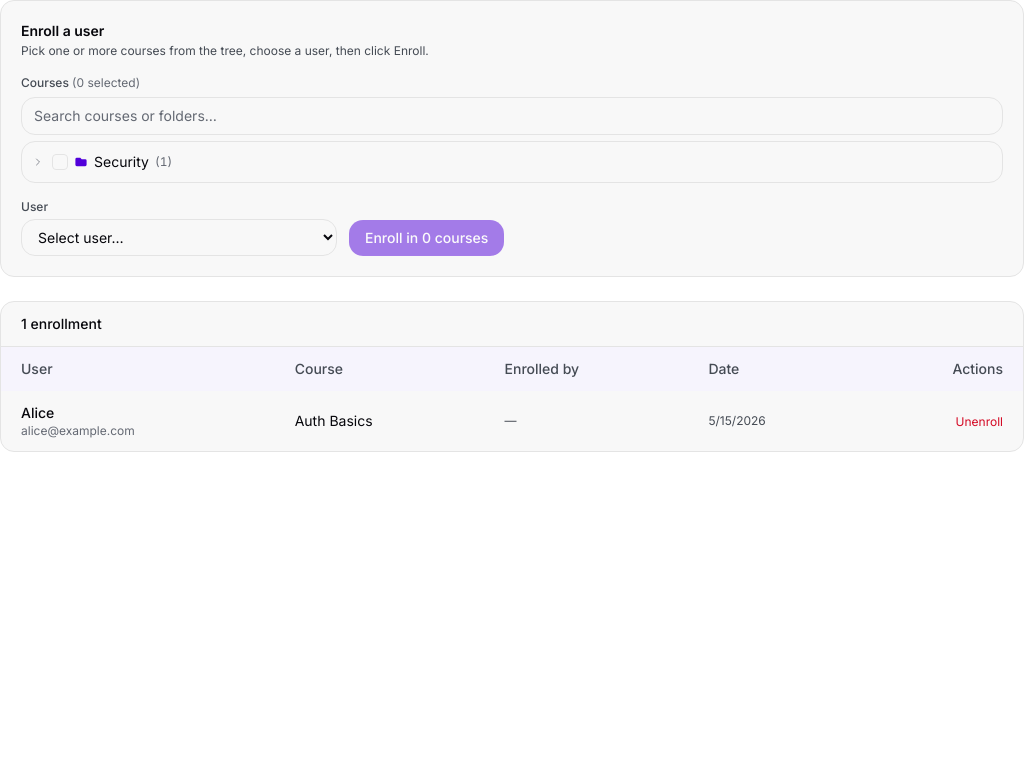
EnrollmentManager — enroll flow › opens the unenroll confirm dialog when Unenroll is clicked
Click the button with aria-label "Unenroll Alice" at (979, 422), box [956,414,1003,430]
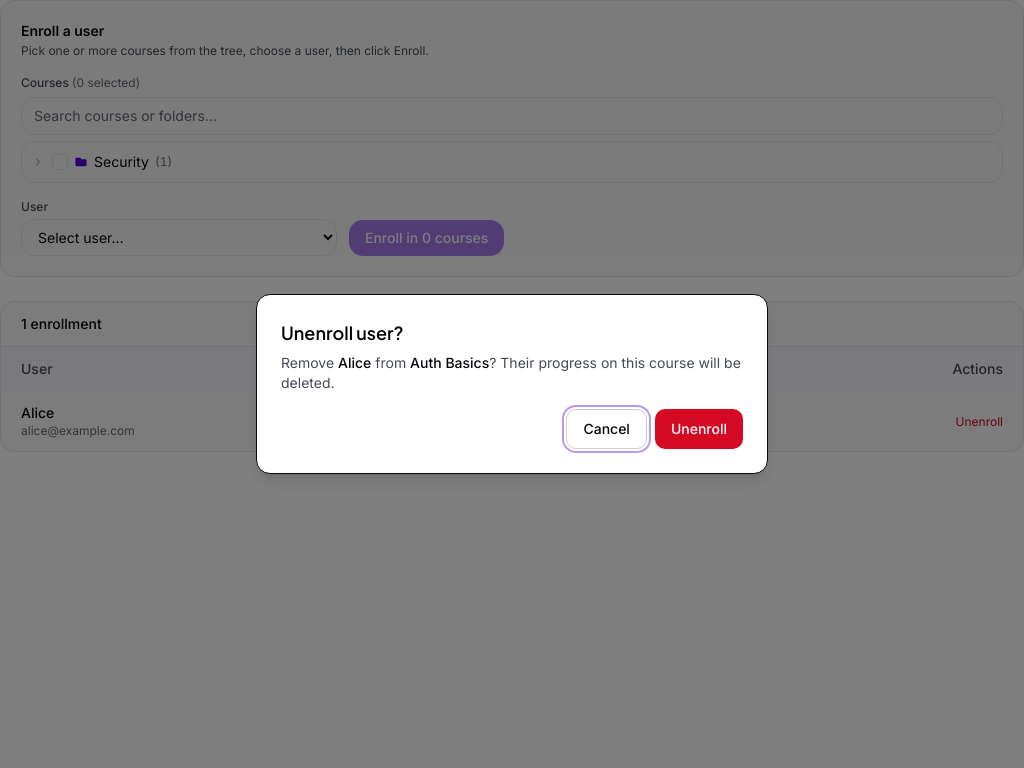
Now the heading "Unenroll user?" is shown, box [281,319,404,347]
